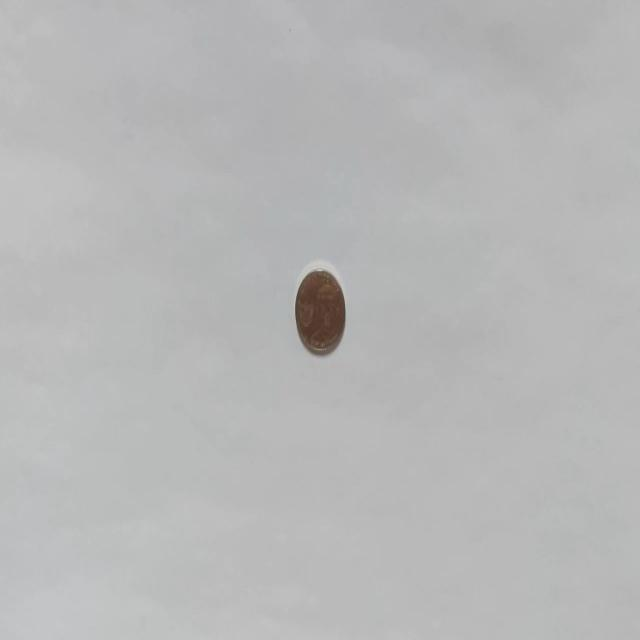seribu rupiah koin: (294, 262, 346, 356)
